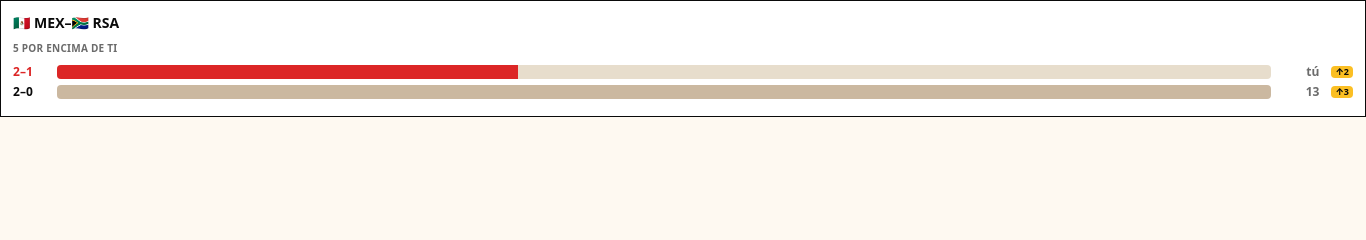
Test: ConsensusCard drill-down › loads and shows all pickers on that scoreline when the 2-1 bar is tapped
Click the button "2–1" at [31, 72], box x1=13 y1=64 x2=49 y2=80
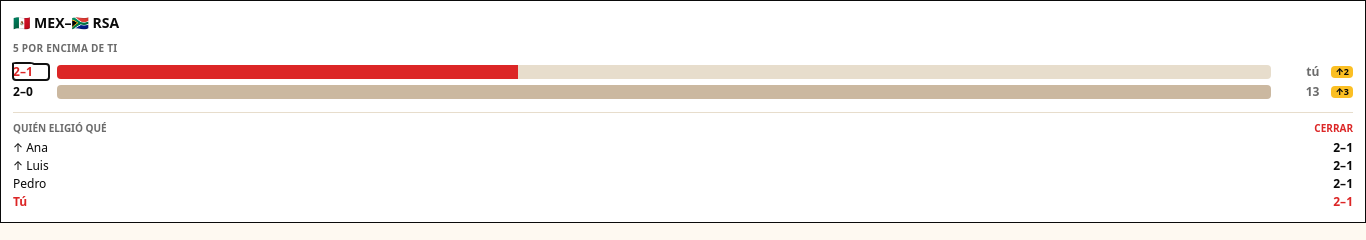
Check: the text "Ana" is shown, box x1=26 y1=139 x2=48 y2=156
Check: the text "Luis" is shown, box x1=26 y1=157 x2=49 y2=174
Check: the text "Pedro" is shown, box x1=13 y1=175 x2=46 y2=192
